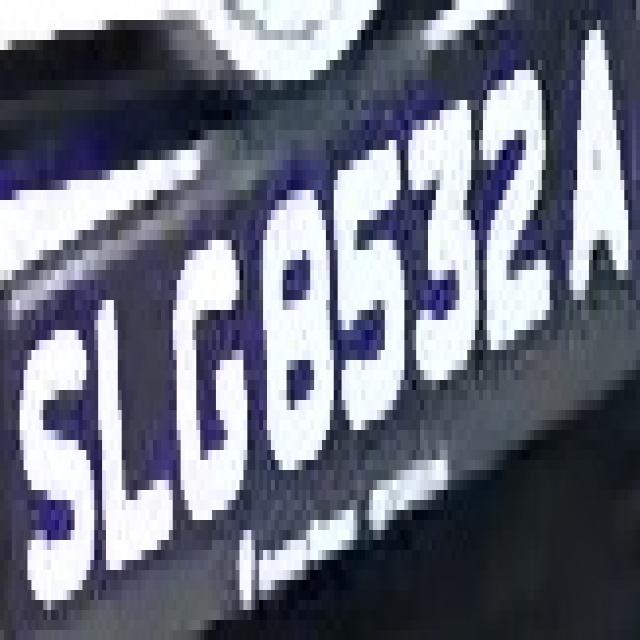2: (475, 70, 565, 370)
3: (401, 80, 479, 380)
5: (330, 120, 404, 450)
8: (251, 180, 338, 510)
A: (562, 20, 636, 350)
G: (165, 220, 259, 530)
L: (86, 270, 180, 580)
S: (12, 300, 98, 620)
